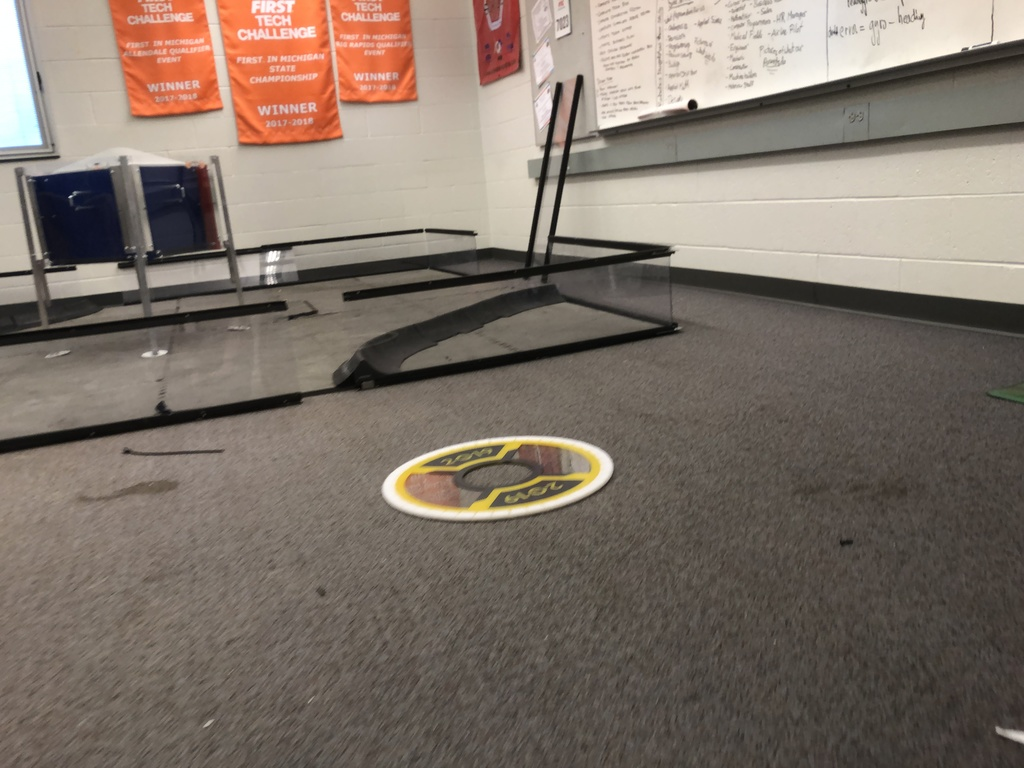hatch_panel: (366, 426, 626, 532)
